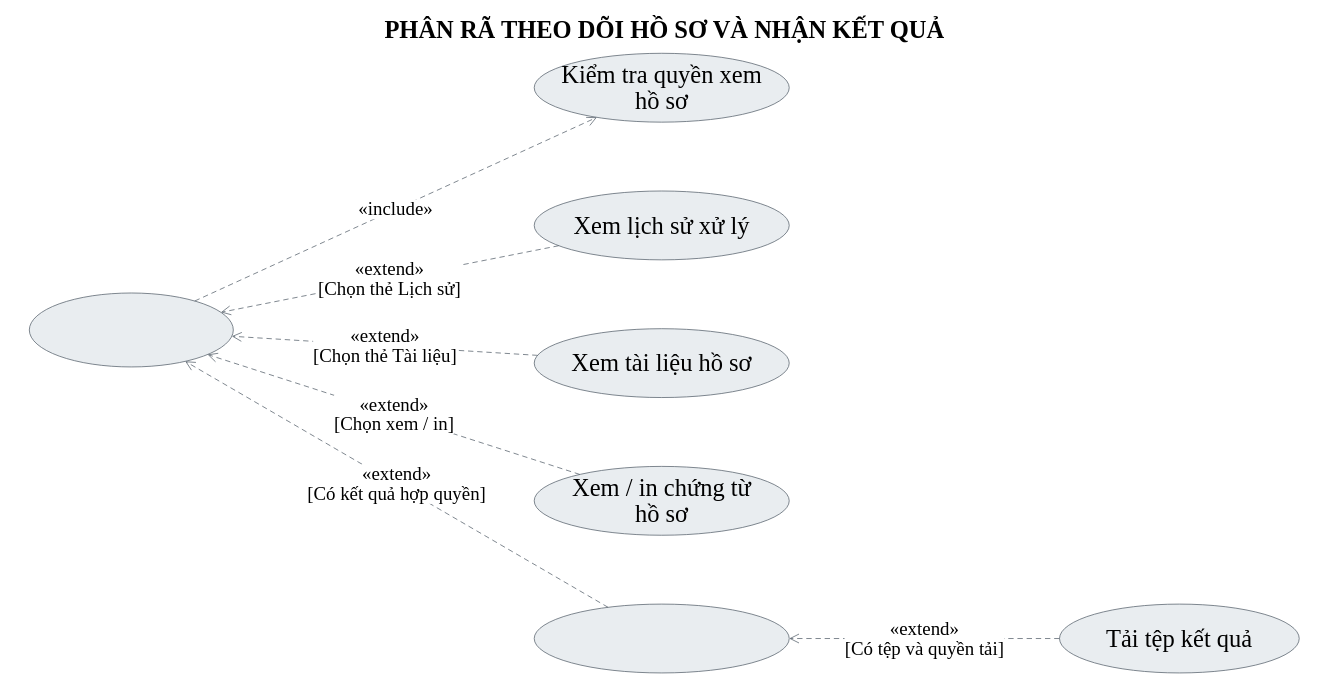
Image size: 1328x682. Some labels were removed from this diagram. Each missing label, with the box of its shape:
Xem chi tiết hồ sơ: (29, 292, 233, 367)
Xem thông tin kết quả: (534, 603, 789, 673)
